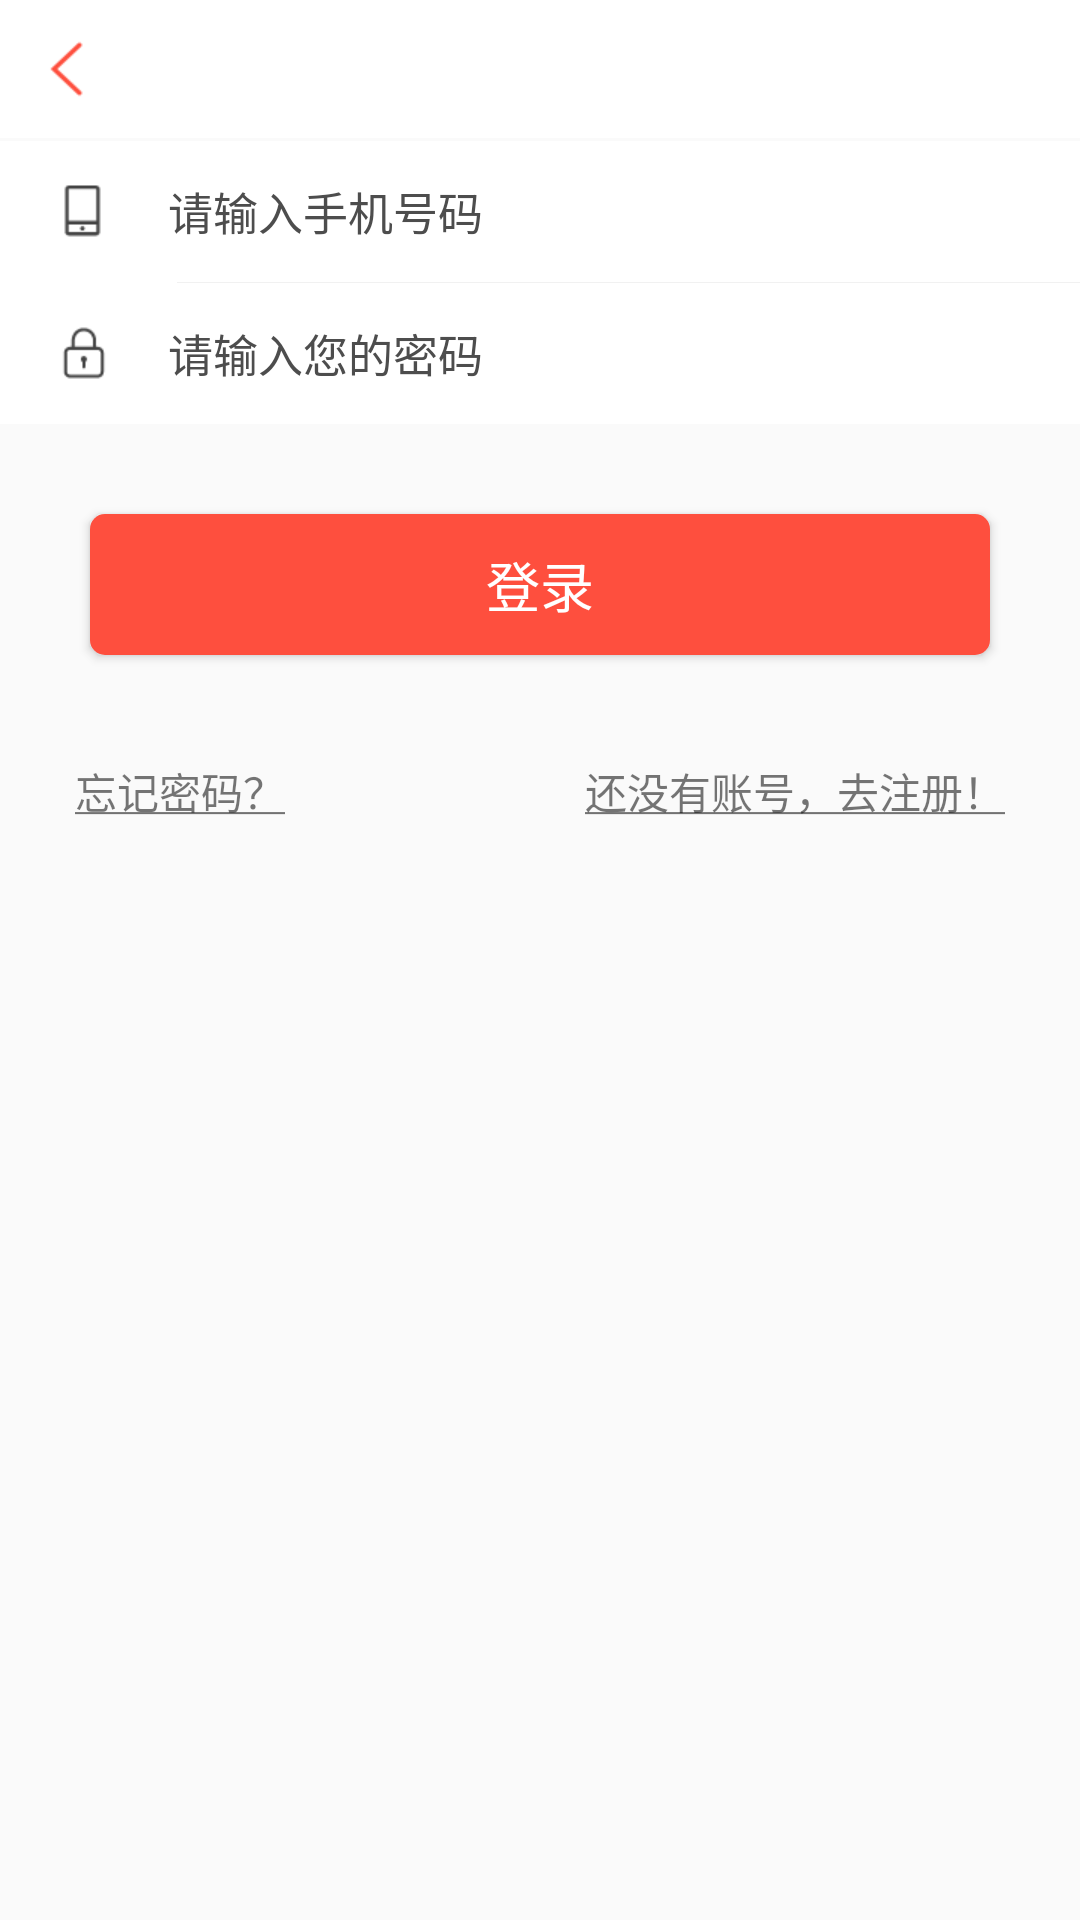

Locate icon controls on the screen. Image size 1080w x 1920h, boxes as [left=x1, top=y1, right=x2, bottom=y2].
return: [left=51, top=42, right=83, bottom=96]
